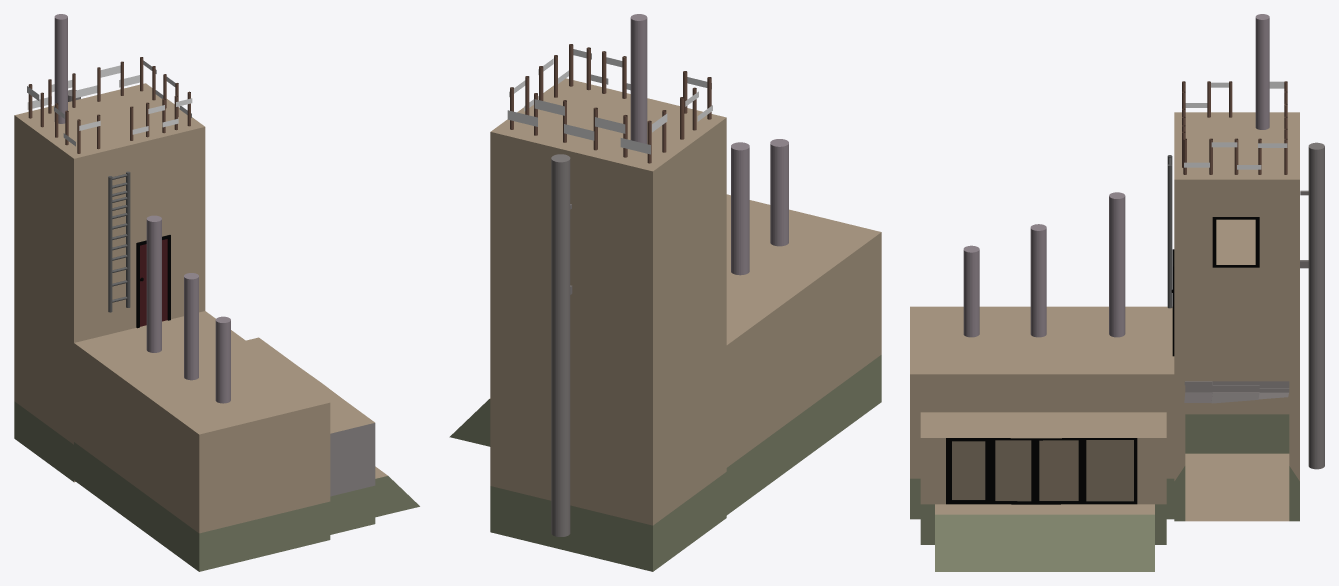
Rendered from Fabriek.fbx.
The picture shows the model from 3 angles, left to right: view 1: azimuth 30°, elevation 25°; view 2: azimuth 150°, elevation 25°; view 3: azimuth 270°, elevation 25°; orthographic projection. The views are drawn at different scales.
Visible parts, largest first — view 1: Cube, Cube.008, Cube.002, Cube.010, Cube.005, Cylinder, Cube.004, Cube.003; view 2: Cube, Cube.008, Cube.002, Cube.005; view 3: Cube, Cube.008, Cube.002, Cube.006, Cube.007, Cube.010, Cube.005, Cylinder, Cube.009.
Boxes of the visible parts, x1,y1,x2,y2 form: Cube: (14,83,387,533); Cube.008: (14,401,419,571); Cube.002: (54,14,230,403); Cube.010: (330,423,375,496); Cube.005: (28,57,190,153); Cylinder: (108,171,130,312); Cube.004: (140,239,167,326); Cube.003: (136,235,170,328); Cube: (489,52,881,525); Cube.008: (449,355,881,571); Cube.002: (551,14,788,536); Cube.005: (510,44,711,163); Cube: (910,105,1299,521); Cube.008: (910,414,1299,571); Cube.002: (963,14,1324,469); Cube.006: (952,440,1133,501); Cube.007: (946,438,1137,504); Cube.010: (1184,381,1289,403); Cube.005: (1182,81,1287,174); Cylinder: (1167,155,1172,308); Cube.009: (1212,217,1259,267).
Bounding box in the file's own units: 17.76 × 31.14 × 25.92.
